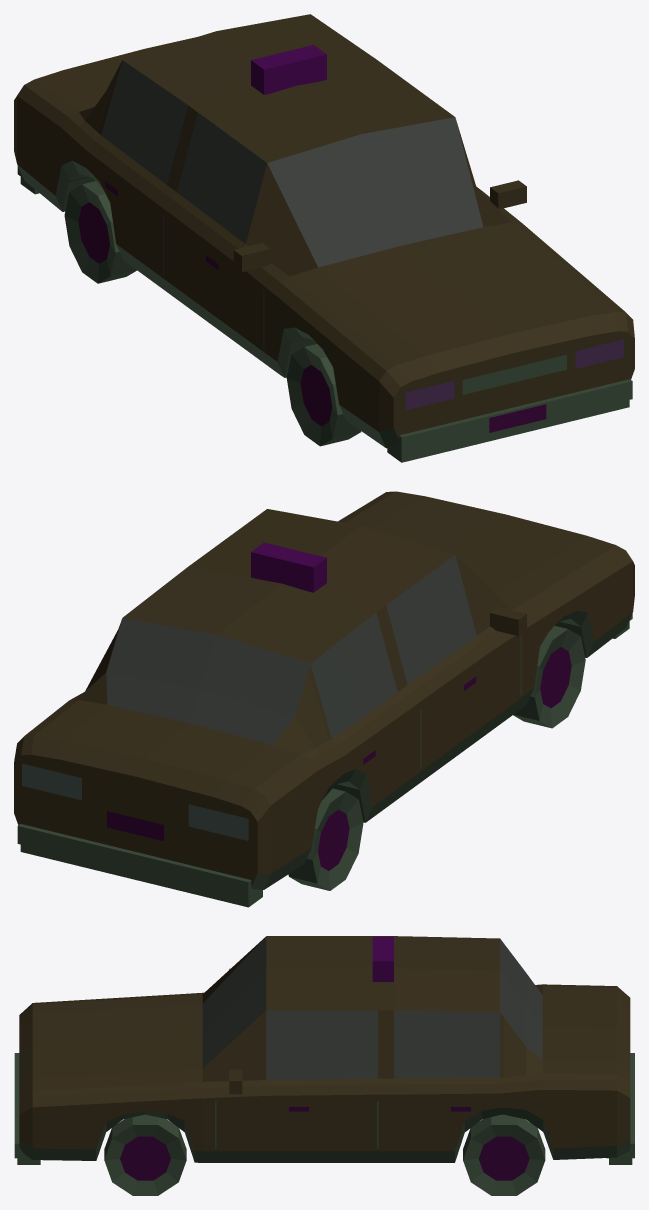
The model's file is taxi_b.glb.
The picture shows the model from 3 angles, top to bottom: view 1: azimuth 30°, elevation 25°; view 2: azimuth 150°, elevation 25°; view 3: azimuth 270°, elevation 25°; orthographic projection. The views are drawn at different scales.
Parts seen in each view (by area): view 1: taxi_b; view 2: taxi_b; view 3: taxi_b.
Boxes of the visible parts, x1=… form: taxi_b: x1=14, y1=14, x2=634, y2=462; taxi_b: x1=14, y1=491, x2=634, y2=907; taxi_b: x1=14, y1=936, x2=634, y2=1195.
Bounding box in the file's own units: 2 × 1.64 × 4.67.
